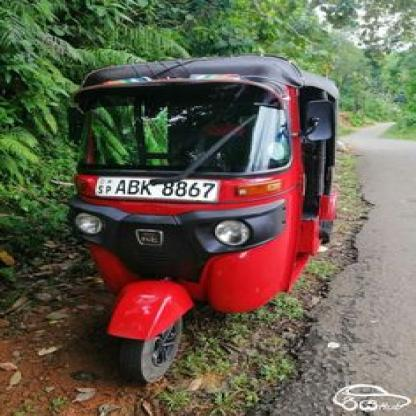number plate: (92, 179, 219, 199)
